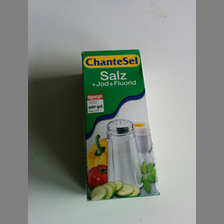spices: (81, 48, 163, 202)
